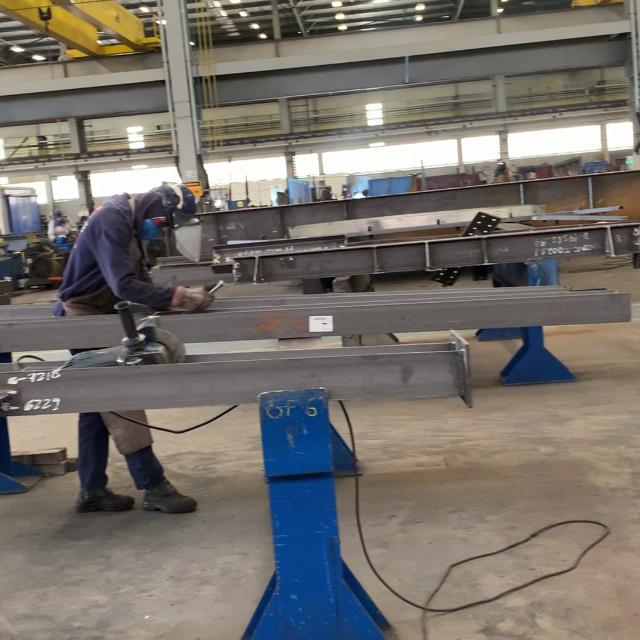face-shield: (148, 212, 202, 266)
glove: (168, 285, 215, 314)
helmet: (153, 185, 199, 213)
person: (59, 182, 219, 515)
safety-shoe: (58, 182, 218, 515), (139, 478, 198, 514), (74, 485, 138, 514)
